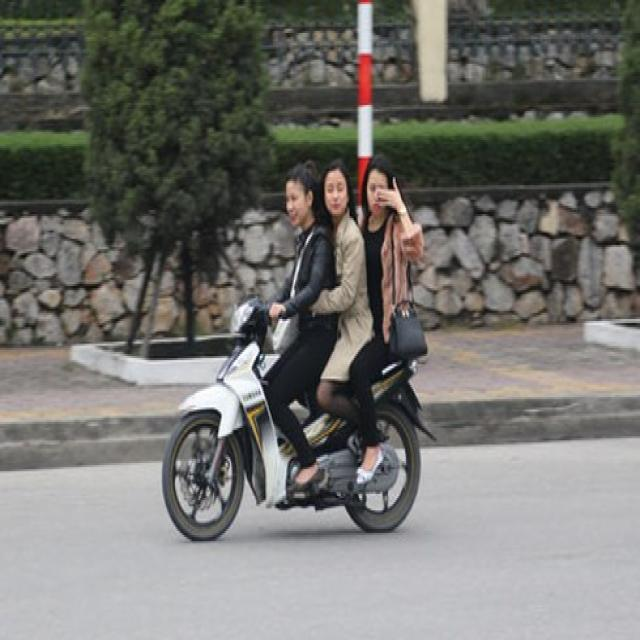no_helmet: (358, 151, 400, 222), (281, 162, 322, 229), (317, 152, 354, 223)
